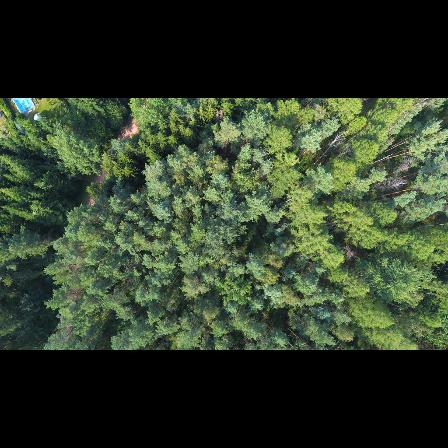Dead: (374, 176, 412, 194), (325, 130, 349, 152)
